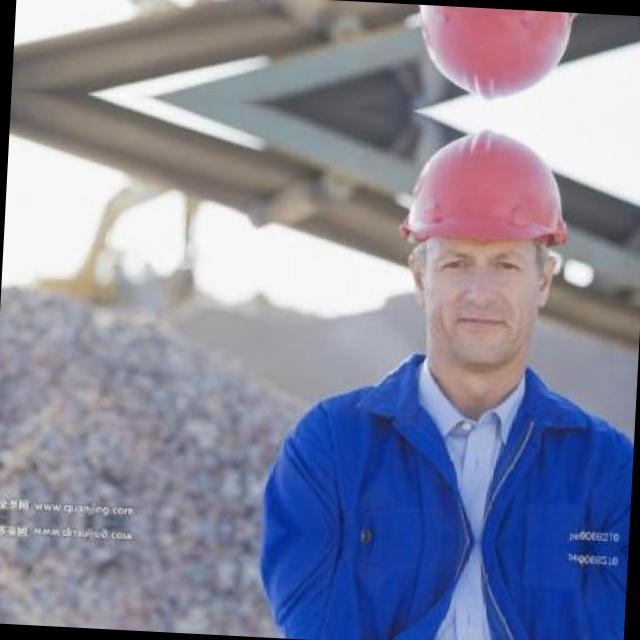helmet: (374, 120, 590, 404), (388, 4, 596, 110)
